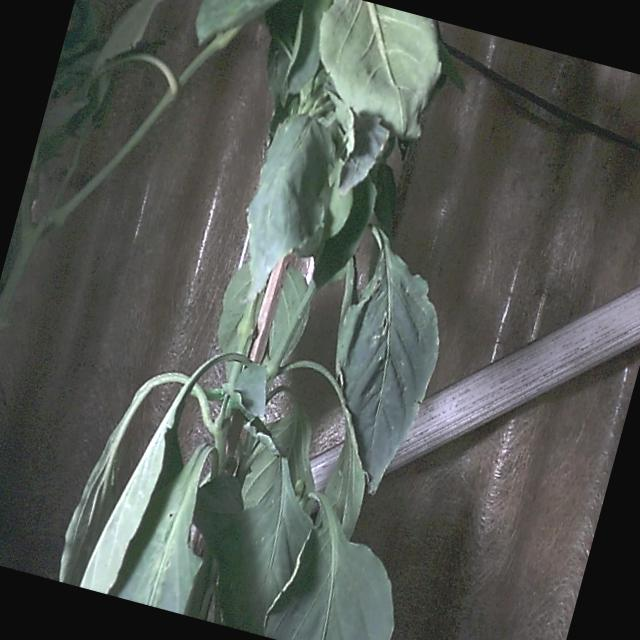Leaf: (336, 231, 438, 492), (265, 495, 393, 639), (111, 444, 211, 611), (320, 0, 440, 138), (247, 115, 333, 298), (92, 0, 162, 73), (195, 0, 278, 44)
